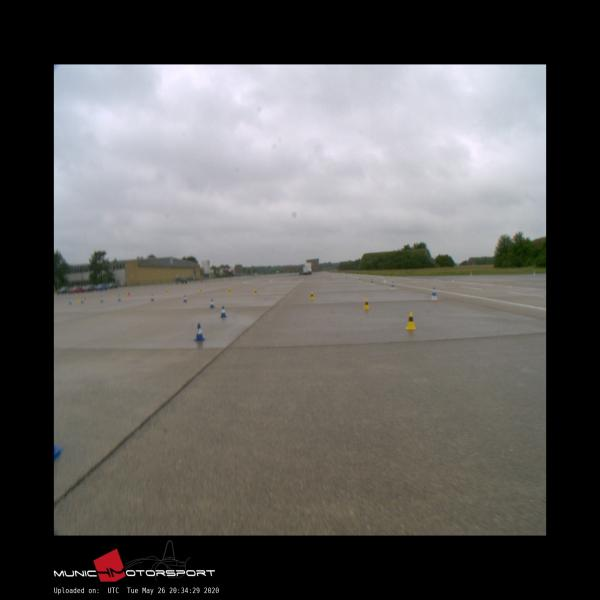blue_cone: (194, 323, 205, 340), (219, 306, 227, 318)
yellow_cone: (407, 311, 416, 329), (363, 298, 369, 308), (310, 290, 314, 300)
